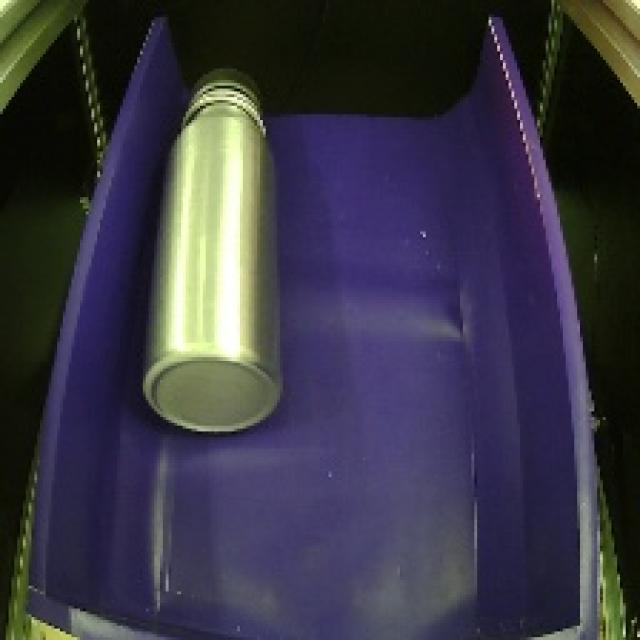metal: (122, 55, 299, 442)
